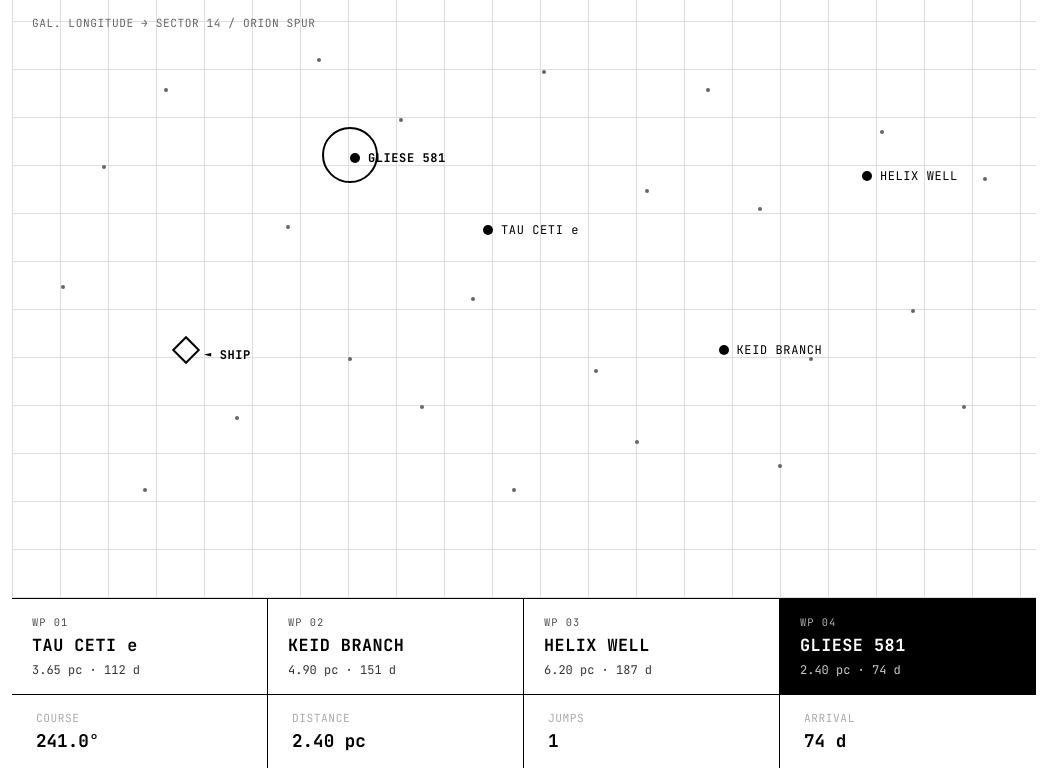
NavigationAutopilotRight › switches the active waypoint and updates the course readouts
Click the button "WP 02 KEID BRANCH 4.90 pc · 151 d" at (396, 646), box [268,599,524,694]
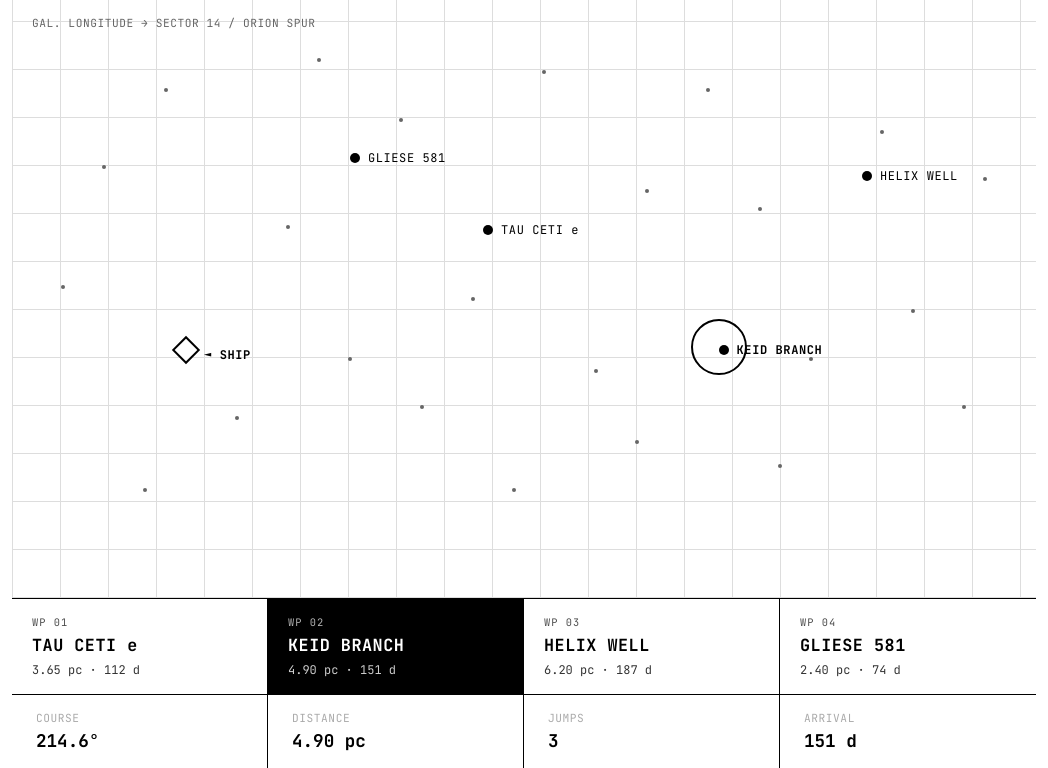
Expected: the text "214.6°" is shown, [36,729,99,752]
